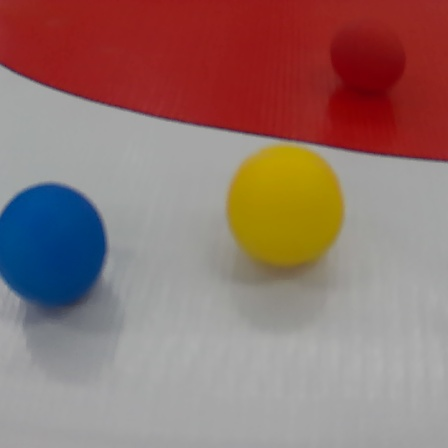blue: (0, 182, 110, 306)
red: (327, 15, 405, 97)
red_base: (2, 0, 444, 166)
yellow: (222, 142, 343, 265)
